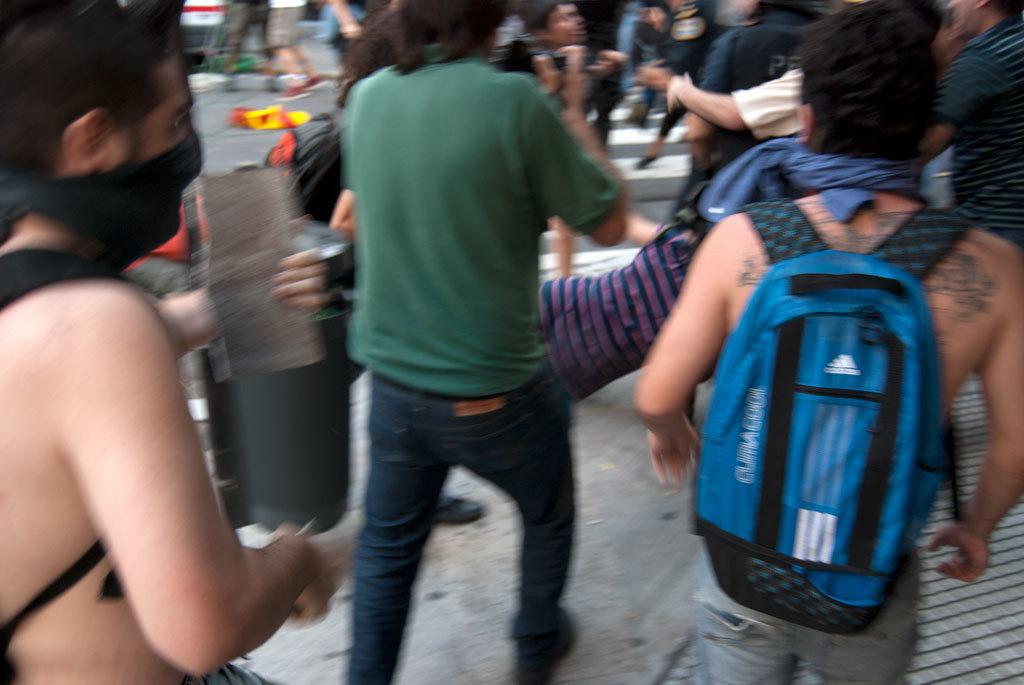Luggage-and-bags: (693, 235, 978, 612)
